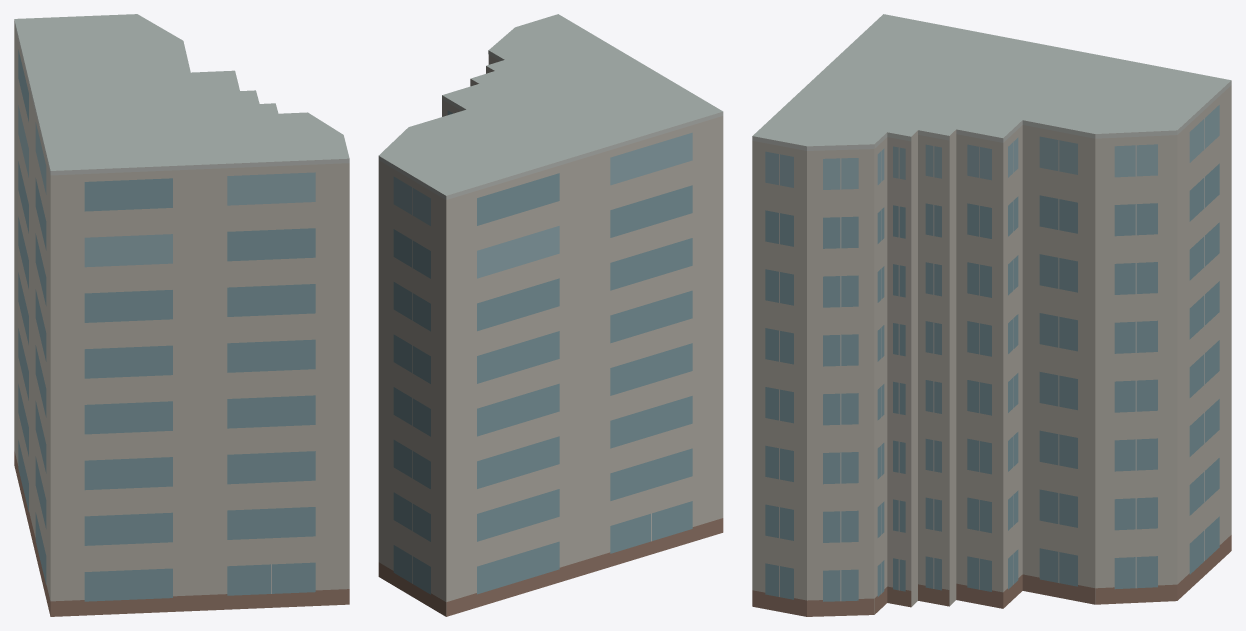
The model's file is survey-upis-32871772.glb.
3 views of the same model, side by side, from view 1: azimuth 30°, elevation 25°; view 2: azimuth 150°, elevation 25°; view 3: azimuth 270°, elevation 25° (orthographic). The views are drawn at different scales.
Visible parts, largest first — view 1: survey-upis-32871772.tmp; view 2: survey-upis-32871772.tmp; view 3: survey-upis-32871772.tmp.
Boxes of the visible parts, <box> form: survey-upis-32871772.tmp: <box>14,14,349,616</box>; survey-upis-32871772.tmp: <box>378,14,723,616</box>; survey-upis-32871772.tmp: <box>752,14,1231,616</box>.
Size of the model in its own units: 14.72 by 24.4 by 22.53.
